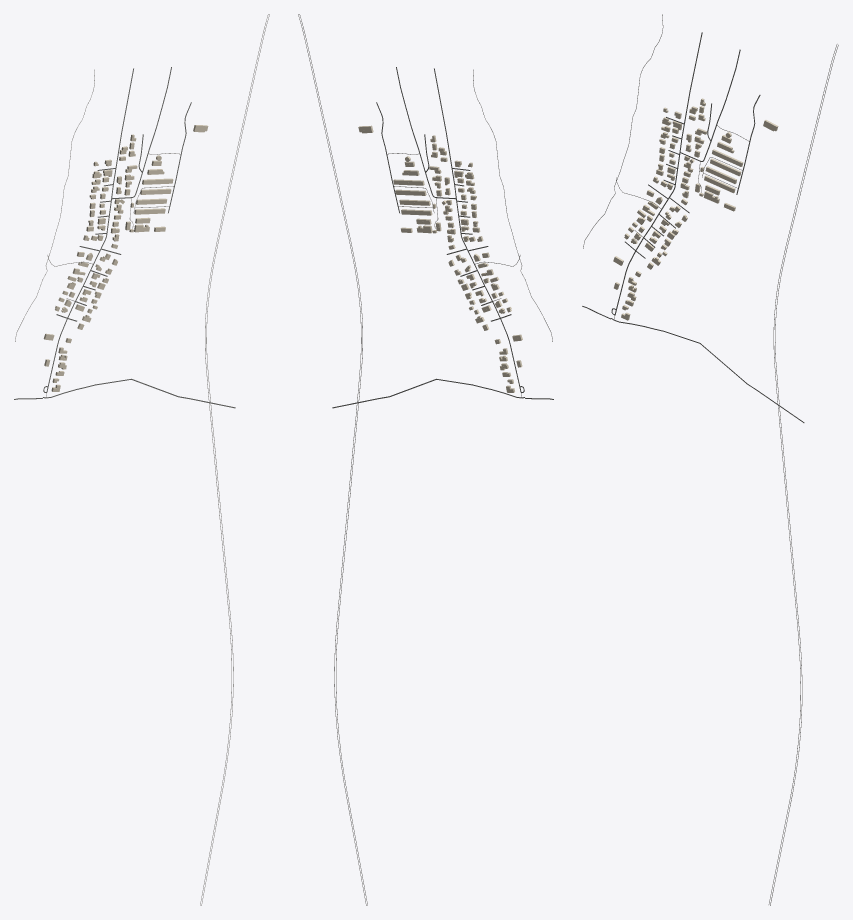
File: historic-palestine-09_35_3508_3297.glb
The picture shows the model from 3 angles, left to right: view 1: azimuth 30°, elevation 25°; view 2: azimuth 150°, elevation 25°; view 3: azimuth 330°, elevation 25°; orthographic projection.
Visible parts, largest first — view 1: Road מסילת החוף, Road מסילת החוף.001, Road החוף; view 2: Road מסילת החוף, Road מסילת החוף.001, Road החוף; view 3: Road מסילת החוף.001, Road מסילת החוף.
Boxes of the visible parts, <box> form: Road מסילת החוף: <box>201,14,269,905</box>; Road מסילת החוף.001: <box>200,14,268,905</box>; Road החוף: <box>43,68,133,392</box>; Road מסילת החוף: <box>298,14,366,905</box>; Road מסילת החוף.001: <box>299,14,367,905</box>; Road החוף: <box>434,68,524,392</box>; Road מסילת החוף.001: <box>768,44,837,904</box>; Road מסילת החוף: <box>770,45,838,905</box>.
Size of the model in its own units: 848 by 2772 by 8.7.
